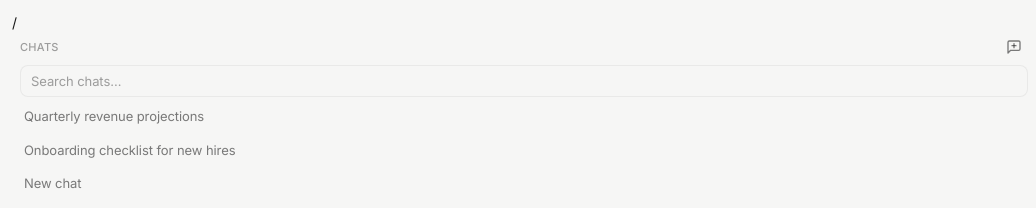
Test: typing in the search box filters the chat list
Expected: the link "Quarterly revenue projections" is shown, [24,108,204,124]
Expected: the link "Onboarding checklist for new hires" is shown, [24,142,235,158]
Type "onboarding" into the search field labelled "Search chats" at x=524, y=81, box [20,65,1028,97]
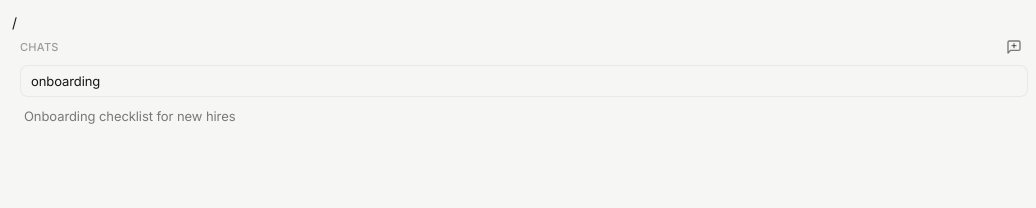
Expected: the link "Onboarding checklist for new hires" is shown, [24,108,235,124]
Now the link "Quarterly revenue projections" is gone
Now the link "New chat" is gone
